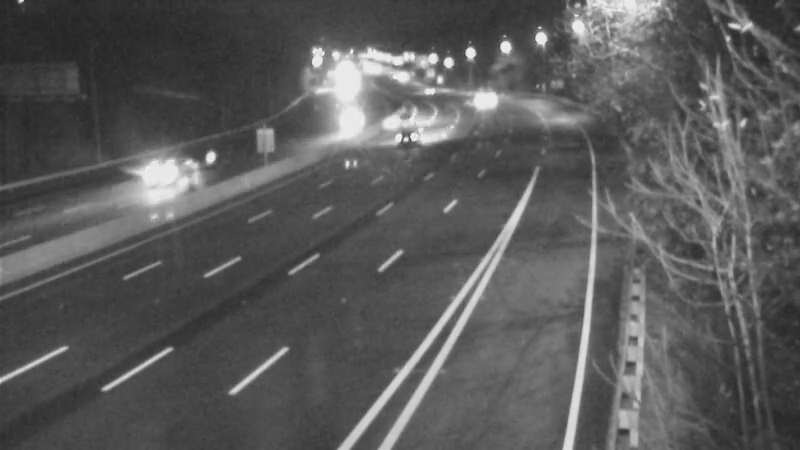vehicle: (118, 134, 198, 214), (145, 121, 225, 201), (458, 73, 508, 123), (405, 67, 455, 117), (377, 91, 427, 141), (386, 110, 436, 160), (321, 99, 371, 149)
